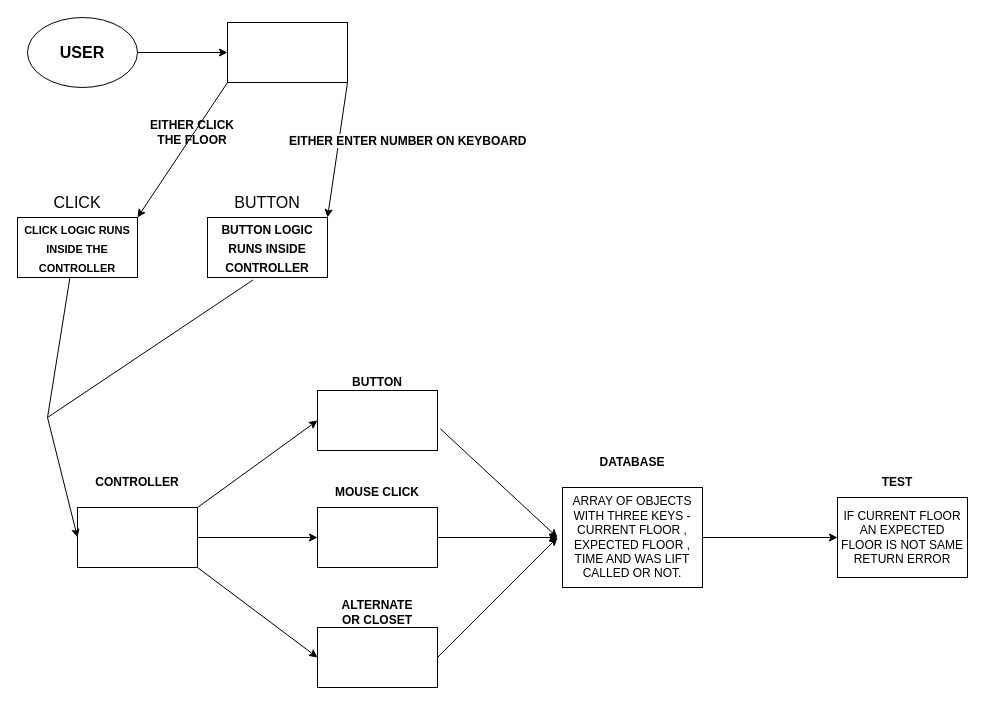
This 985x705 diagram has some shape labels left out. The shapes that lost their labels are listed below. From the top down, each one's centre as x and y in pixels, then its label:
At [287,52]: "USER SEES UI WITH MULTIPLE LIFTS AND BUTTONS.".
At [137,537]: "CONTAINS LOGIC".
